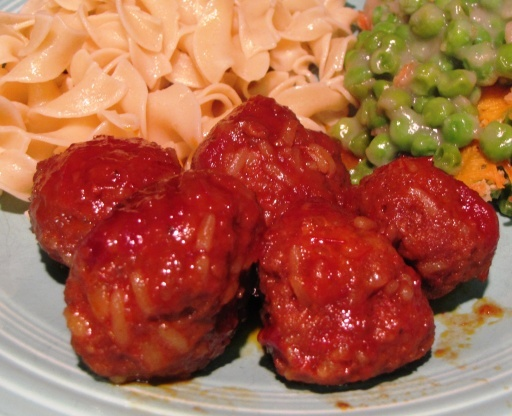background: (0, 0, 410, 252)
